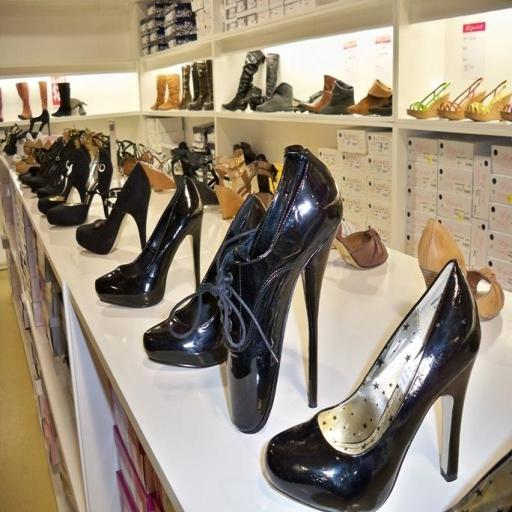boots: (222, 50, 265, 111), (249, 53, 279, 110), (348, 79, 392, 115), (300, 75, 336, 113), (319, 79, 354, 115), (256, 82, 293, 112), (188, 61, 209, 111), (158, 74, 180, 110), (52, 82, 72, 117), (178, 64, 192, 110), (265, 53, 279, 99), (150, 74, 167, 110), (16, 82, 32, 120), (187, 62, 200, 108), (203, 59, 214, 110), (38, 81, 47, 110), (0, 88, 4, 122)
heels: (265, 260, 481, 511), (215, 145, 343, 433), (143, 195, 266, 368), (95, 177, 203, 307), (418, 218, 504, 320), (76, 164, 151, 254), (46, 148, 113, 226), (214, 155, 277, 220), (446, 450, 512, 512), (37, 148, 90, 214), (166, 141, 218, 206), (334, 225, 388, 269), (437, 77, 486, 120), (464, 80, 512, 122), (406, 82, 450, 119)
